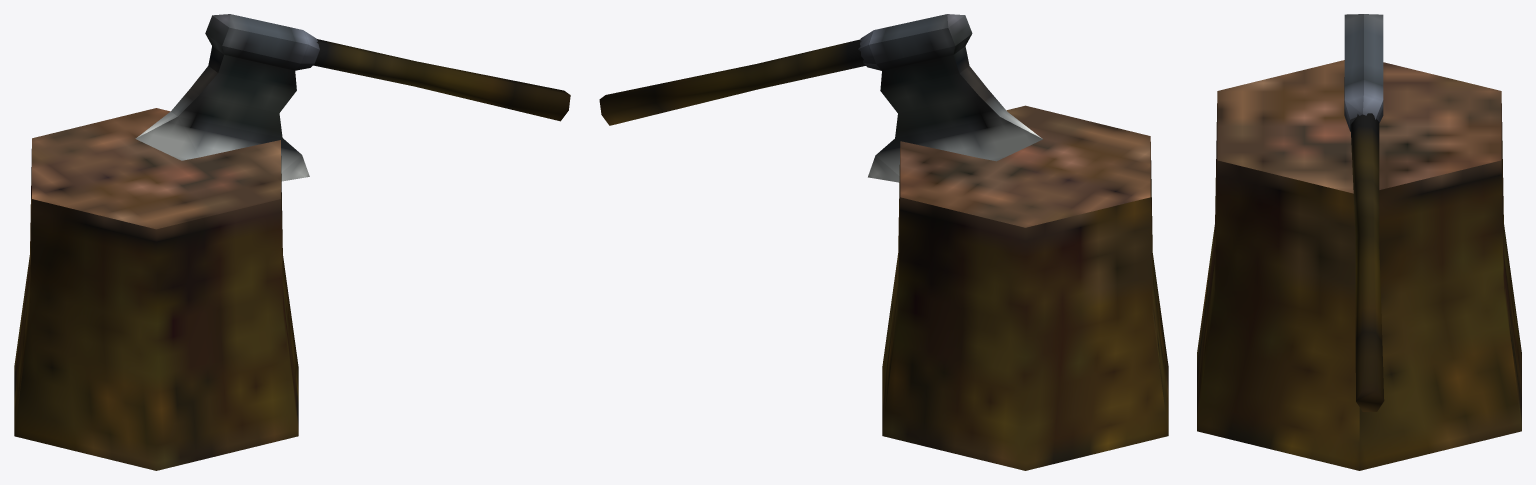
File: b_general_obj_27_01.fbx
The picture shows the model from 3 angles, left to right: view 1: azimuth 30°, elevation 25°; view 2: azimuth 150°, elevation 25°; view 3: azimuth 270°, elevation 25°; orthographic projection. The views are drawn at different scales.
Visible parts, largest first — view 1: Sphere01; view 2: Sphere01; view 3: Sphere01.
Part boxes in pixels (bbox=[...]): Sphere01: bbox=[14, 14, 570, 470]; Sphere01: bbox=[599, 14, 1168, 470]; Sphere01: bbox=[1197, 14, 1521, 470].
Size of the model in its own units: 1.29 by 0.8143 by 0.5706.
